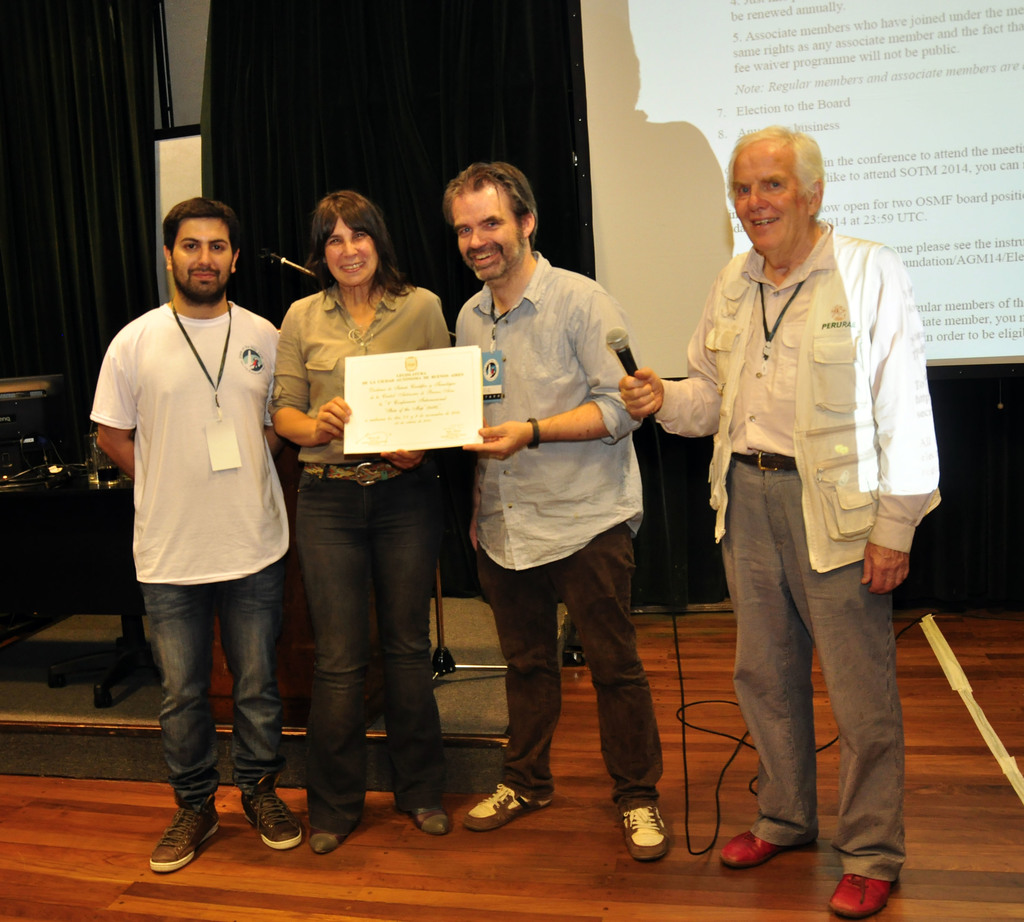Footwear: (144, 775, 238, 882), (459, 779, 553, 826), (237, 782, 300, 848), (831, 868, 897, 919), (619, 804, 673, 859), (720, 830, 781, 871), (408, 805, 455, 836), (310, 834, 349, 859)
